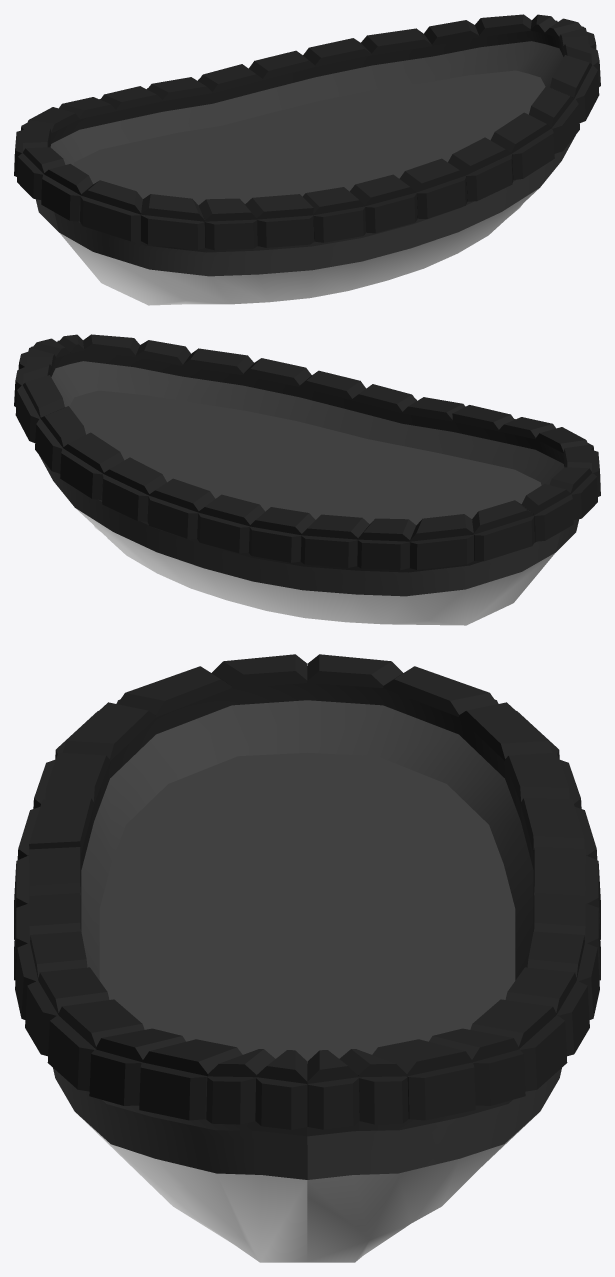
Rendered from SM_Hull_Tank.fbx.
3 views of the same model, one above another, from view 1: azimuth 30°, elevation 25°; view 2: azimuth 150°, elevation 25°; view 3: azimuth 270°, elevation 25° (orthographic). The views are drawn at different scales.
Parts seen in each view (by area): view 1: ShipBodyTank; view 2: ShipBodyTank; view 3: ShipBodyTank.
Part boxes in pixels (box(x1,y1,x2,y2)): ShipBodyTank: box(14, 14, 600, 305); ShipBodyTank: box(14, 334, 600, 625); ShipBodyTank: box(14, 654, 600, 1262).
Bounding box in the file's own units: 461 × 141 × 256.
